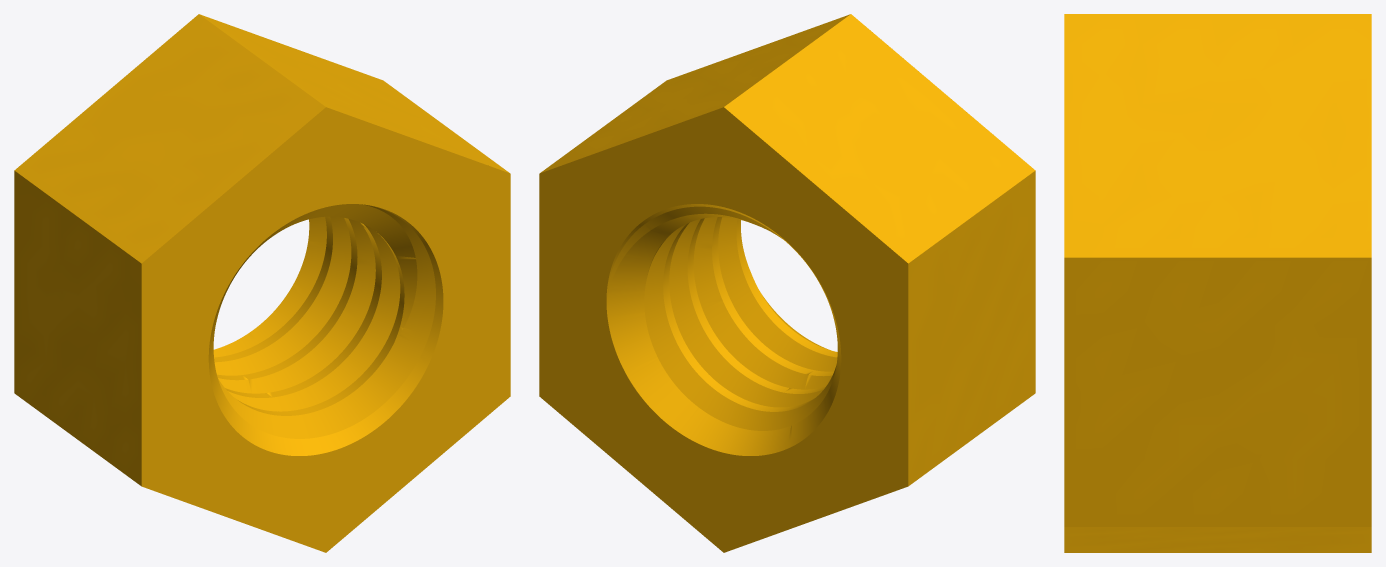
Rendered from nut3.obj.
The picture shows the model from 3 angles, left to right: view 1: azimuth 30°, elevation 25°; view 2: azimuth 150°, elevation 25°; view 3: azimuth 270°, elevation 25°; orthographic projection. The views are drawn at different scales.
Visible parts, largest first — view 1: mesh5.001, mesh12.001, mesh7.001, mesh1.001, mesh11.001, mesh3.001, mesh2.001; view 2: mesh6.001, mesh12.001, mesh7.001, mesh0.001, mesh4.001, mesh11.001, mesh2.001; view 3: mesh10.001, mesh11.001, mesh9.001.
Boxes of the visible parts, x1,y1,x2,y2 form: mesh5.001: [141, 107, 510, 552]; mesh12.001: [14, 14, 325, 263]; mesh7.001: [14, 170, 141, 486]; mesh1.001: [213, 204, 435, 438]; mesh11.001: [199, 14, 509, 173]; mesh3.001: [208, 204, 443, 455]; mesh2.001: [214, 216, 404, 415]; mesh6.001: [539, 107, 908, 552]; mesh12.001: [724, 14, 1035, 263]; mesh7.001: [908, 170, 1035, 486]; mesh0.001: [606, 206, 837, 430]; mesh4.001: [606, 204, 841, 455]; mesh11.001: [540, 14, 850, 173]; mesh2.001: [647, 217, 837, 411]; mesh10.001: [1064, 257, 1371, 526]; mesh11.001: [1064, 14, 1371, 257]; mesh9.001: [1064, 527, 1371, 552].
Bounding box in the file's own units: 0.036 × 0.0416 × 0.0215.
